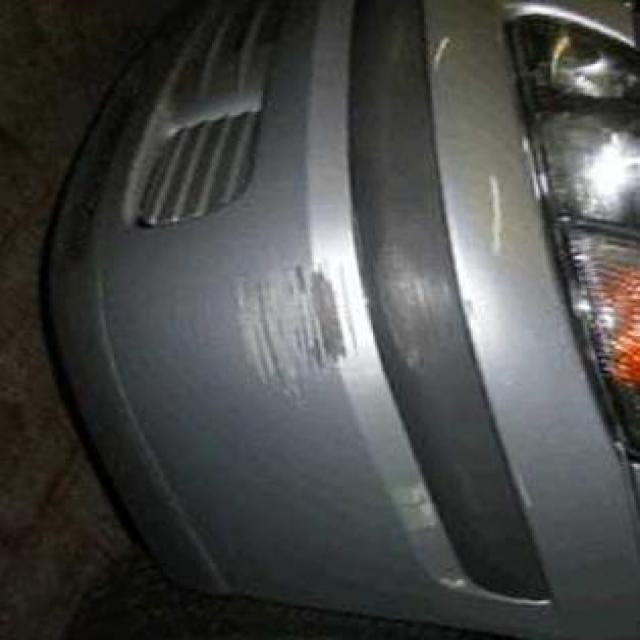scratch: (200, 243, 356, 408), (388, 232, 448, 363)
